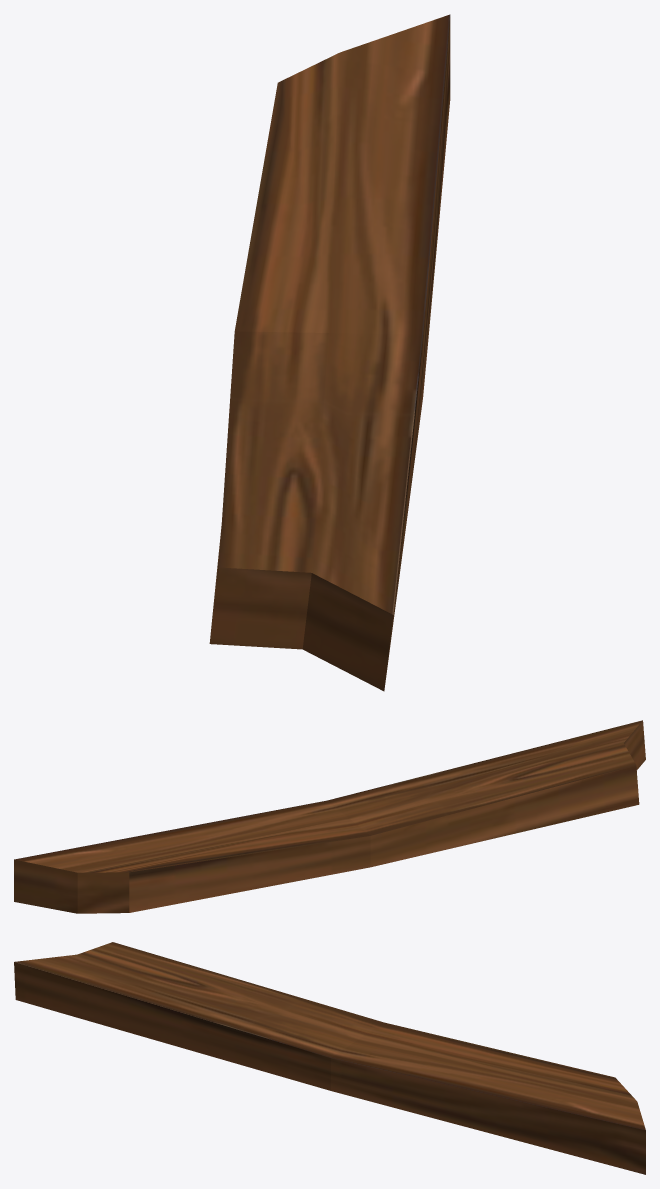
Rendered from WoodLog2.fbx.
3 renders of one model, top to bottom at view 1: azimuth 30°, elevation 25°; view 2: azimuth 150°, elevation 25°; view 3: azimuth 270°, elevation 25°, orthographic. The views are drawn at different scales.
Visible parts, largest first — view 1: WoodLog2.001; view 2: WoodLog2.001; view 3: WoodLog2.001.
Boxes of the visible parts, box(x1,y1,x2,y2) form: WoodLog2.001: box(209, 14, 450, 691); WoodLog2.001: box(14, 720, 645, 913); WoodLog2.001: box(14, 942, 645, 1174).
Bounding box in the file's own units: 0.4737 × 0.0536 × 0.6608.
Materials: 1 (1 with a texture image).
